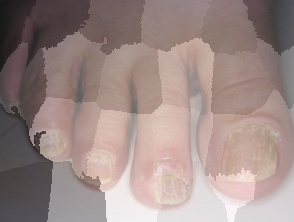Nail_psoriasis: (203, 105, 294, 205), (67, 135, 131, 199), (138, 145, 197, 209), (29, 121, 76, 163), (0, 86, 30, 121)
